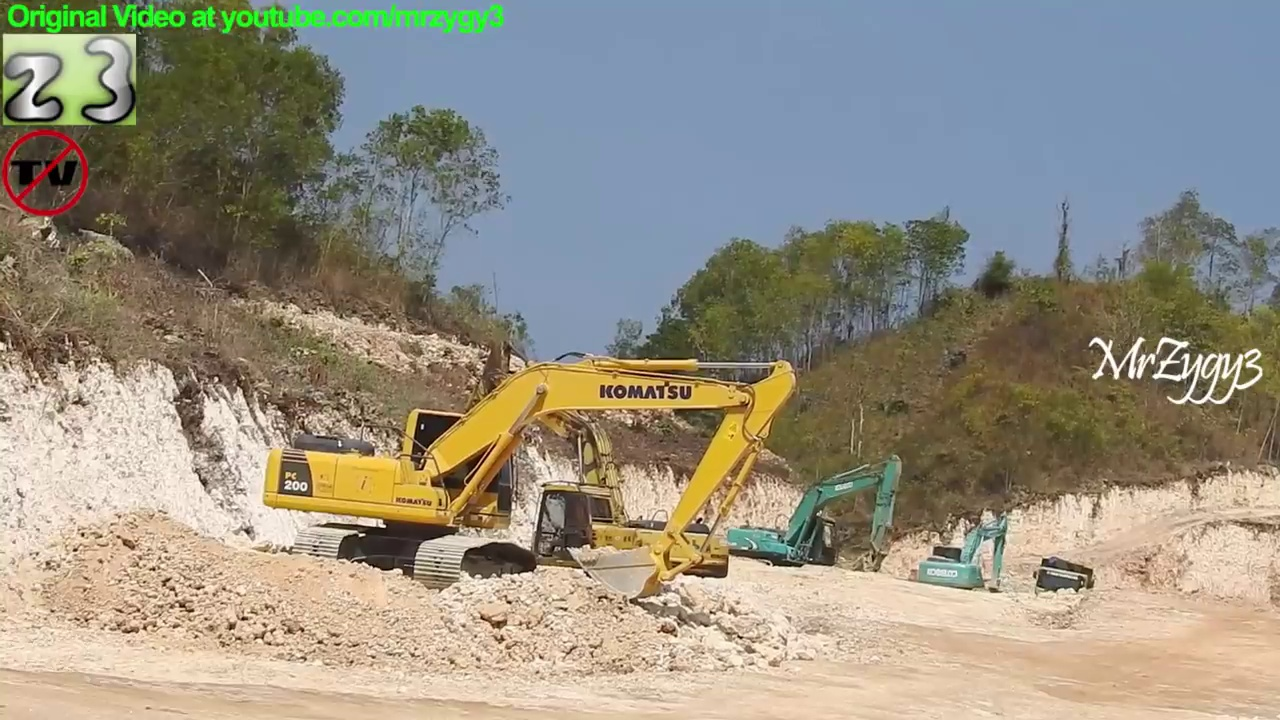excavator: (258, 347, 800, 606), (424, 343, 737, 598), (713, 450, 905, 589), (909, 513, 1009, 609)
truck: (1029, 554, 1099, 626)
